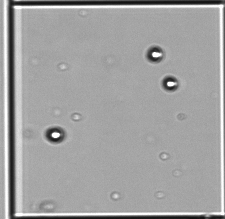Living Cell: (146, 45, 164, 62), (45, 126, 64, 142), (161, 76, 178, 91)
